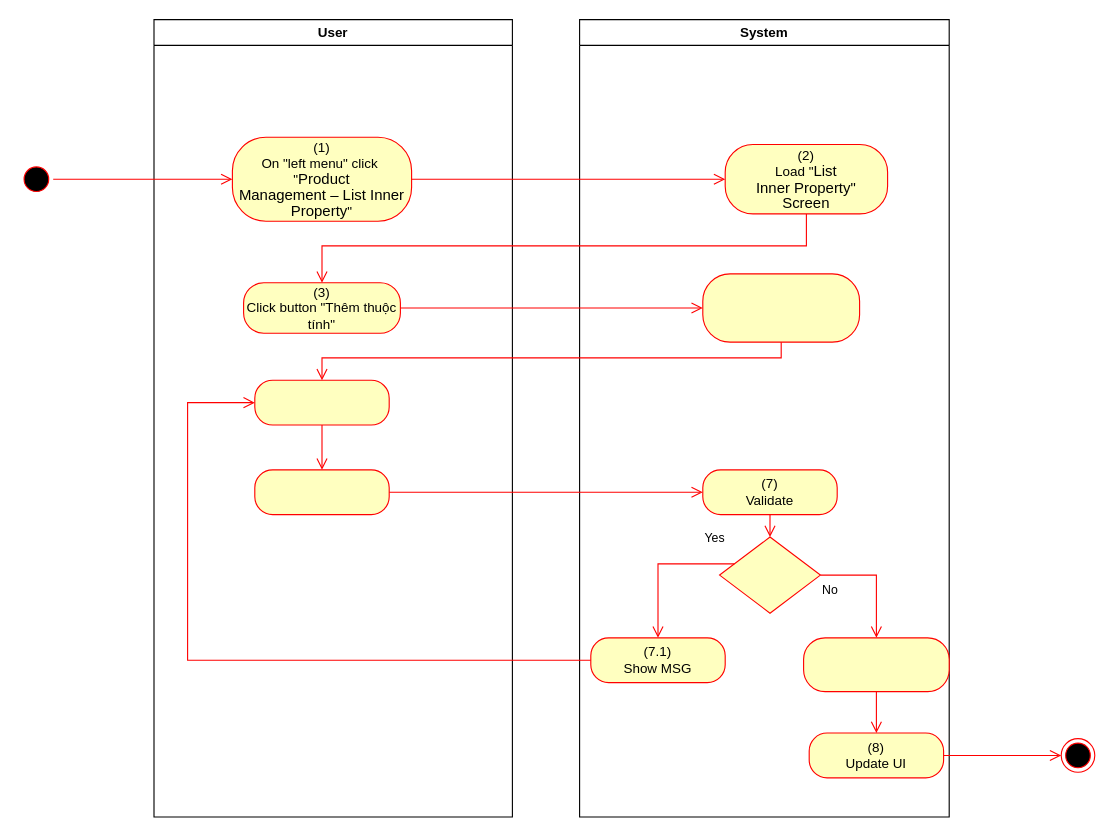
Image size: 1114x837. Some labels were removed from this diagram. Here are the shapes that lost their labels. From the top down, the centre of each, then its label:
point (781, 307): (4) Load " CRUD Inner Property "
point (321, 402): (5) Giving input
point (321, 492): (6) Click "Lưu"
point (875, 664): (7.2) Push new Inner Property to DB
